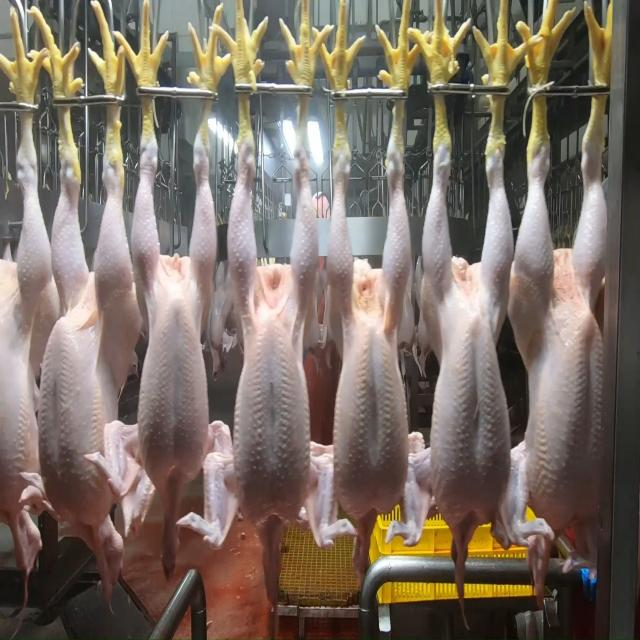chicken: (416, 140, 514, 630), (512, 139, 608, 618), (224, 139, 325, 538), (37, 96, 130, 525), (325, 142, 412, 594), (128, 130, 218, 539), (0, 112, 48, 532)
